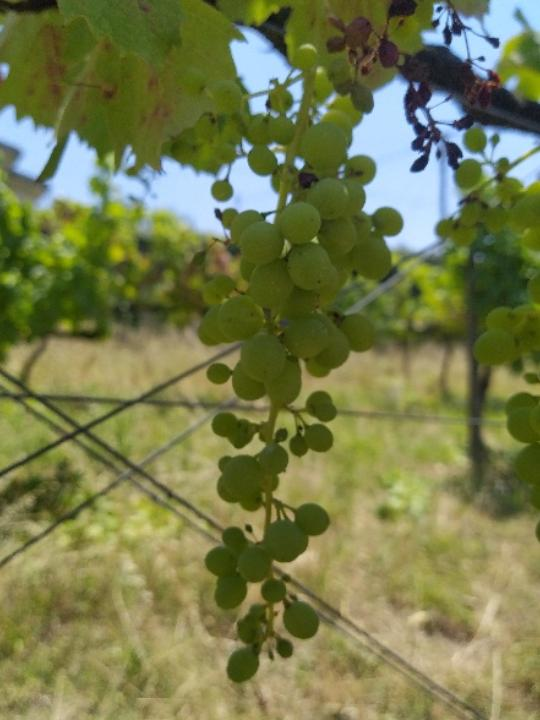grape: (184, 34, 414, 687), (325, 0, 512, 189)
